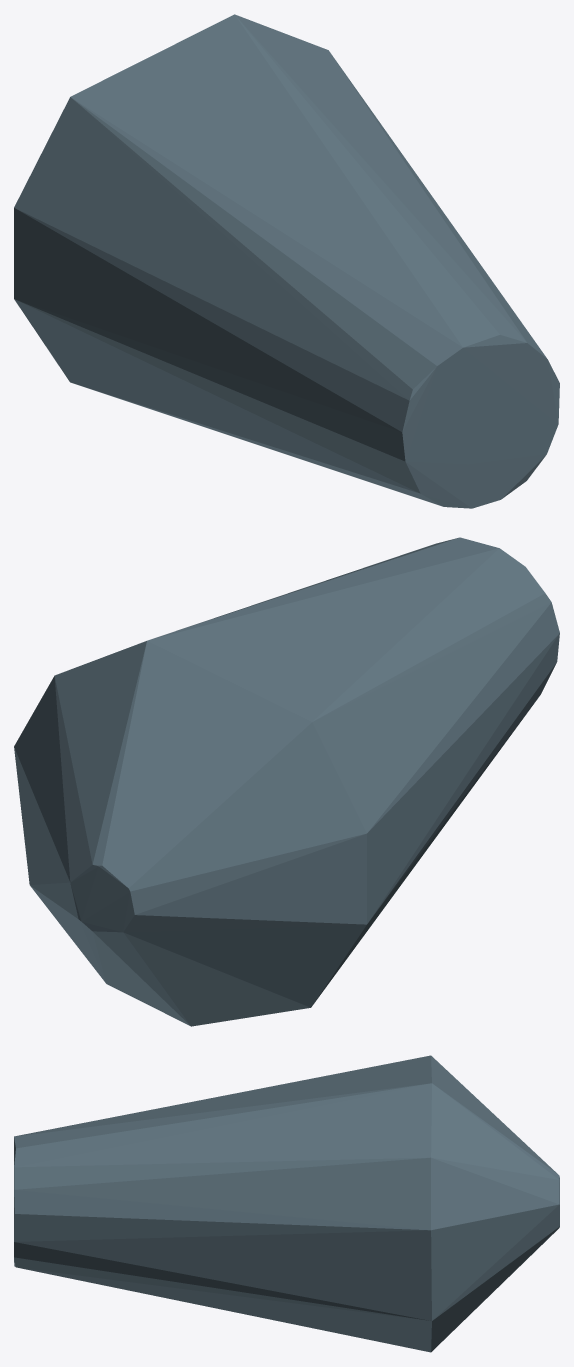
File: decor_candle_j01.glb
3 renders of one model, top to bottom at view 1: azimuth 30°, elevation 25°; view 2: azimuth 150°, elevation 25°; view 3: azimuth 270°, elevation 25°, orthographic. The views are drawn at different scales.
Visible parts, largest first — view 1: geometry_0; view 2: geometry_0; view 3: geometry_0.
Boxes of the visible parts, x1,y1,x2,y2 form: geometry_0: (14,14,559,508); geometry_0: (14,537,559,1026); geometry_0: (14,1055,559,1352).
Bounding box in the file's own units: 0.2585 × 0.2623 × 0.4798.
